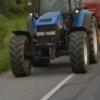Tractor: (6, 5, 90, 80)
